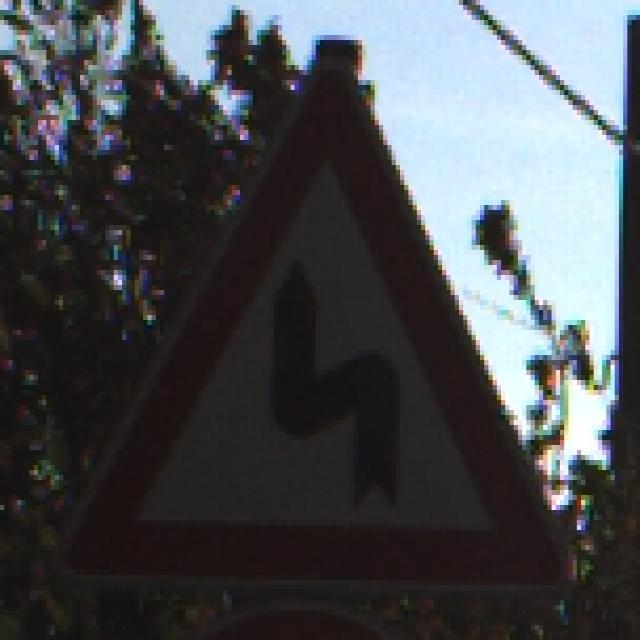left reverse bend: (47, 44, 566, 588)
